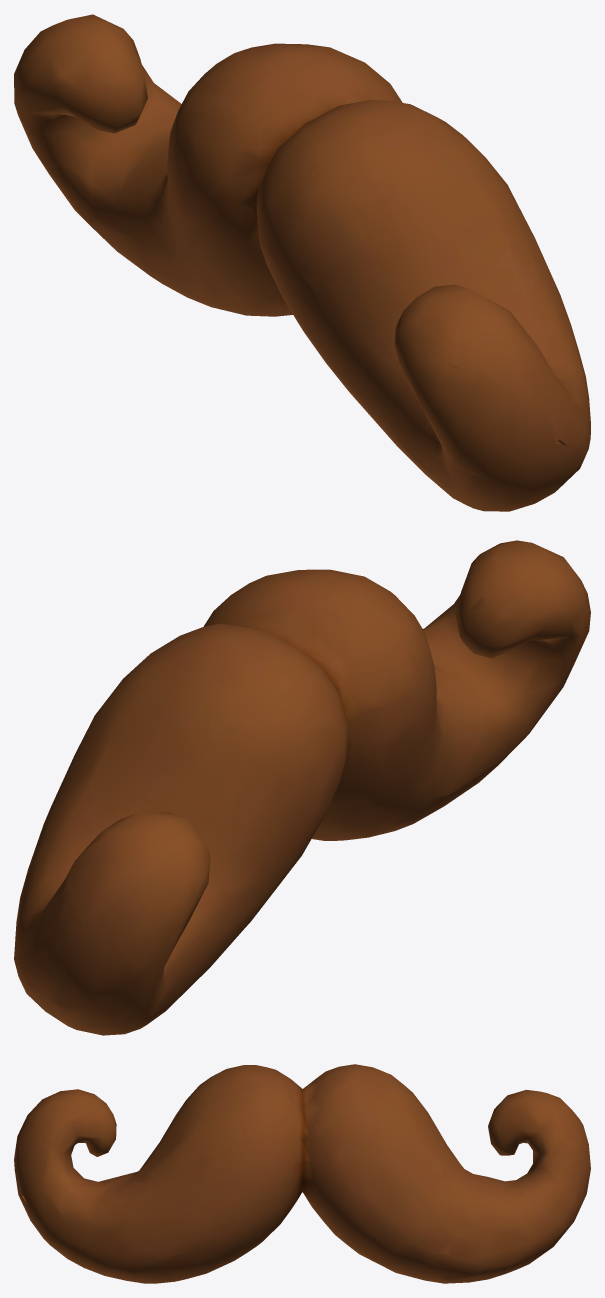
Rendered from x-mustache.glb.
The picture shows the model from 3 angles, top to bottom: view 1: azimuth 30°, elevation 25°; view 2: azimuth 150°, elevation 25°; view 3: azimuth 270°, elevation 25°; orthographic projection. The views are drawn at different scales.
Parts seen in each view (by area): view 1: tripo_node_ef8326b0-66ab-4b68-9845-59a7cee31623; view 2: tripo_node_ef8326b0-66ab-4b68-9845-59a7cee31623; view 3: tripo_node_ef8326b0-66ab-4b68-9845-59a7cee31623.
Boxes of the visible parts, x1,y1,x2,y2 form: tripo_node_ef8326b0-66ab-4b68-9845-59a7cee31623: (14, 14, 590, 511); tripo_node_ef8326b0-66ab-4b68-9845-59a7cee31623: (14, 540, 590, 1035); tripo_node_ef8326b0-66ab-4b68-9845-59a7cee31623: (14, 1064, 590, 1283).
Bounding box in the file's own units: 0.3182 × 0.378 × 1.
1 material, 1 textured.
